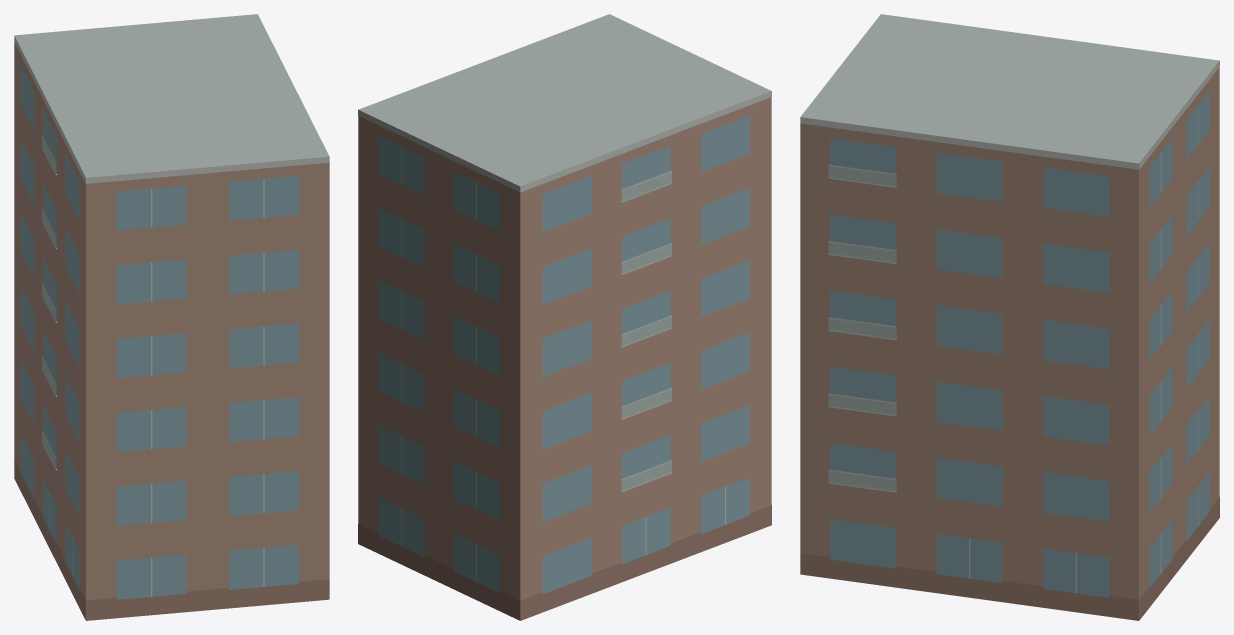
File: survey-upis-32537419.glb
3 views of the same model, side by side, from view 1: azimuth 30°, elevation 25°; view 2: azimuth 150°, elevation 25°; view 3: azimuth 270°, elevation 25° (orthographic). The views are drawn at different scales.
Parts seen in each view (by area): view 1: survey-upis-32537419.tmp; view 2: survey-upis-32537419.tmp; view 3: survey-upis-32537419.tmp.
Part boxes in pixels (box(x1,y1,x2,y2)): survey-upis-32537419.tmp: box(14, 14, 329, 620); survey-upis-32537419.tmp: box(358, 14, 771, 620); survey-upis-32537419.tmp: box(800, 14, 1219, 620).
Size of the model in its own units: 12.56 by 17.9 by 14.89.
